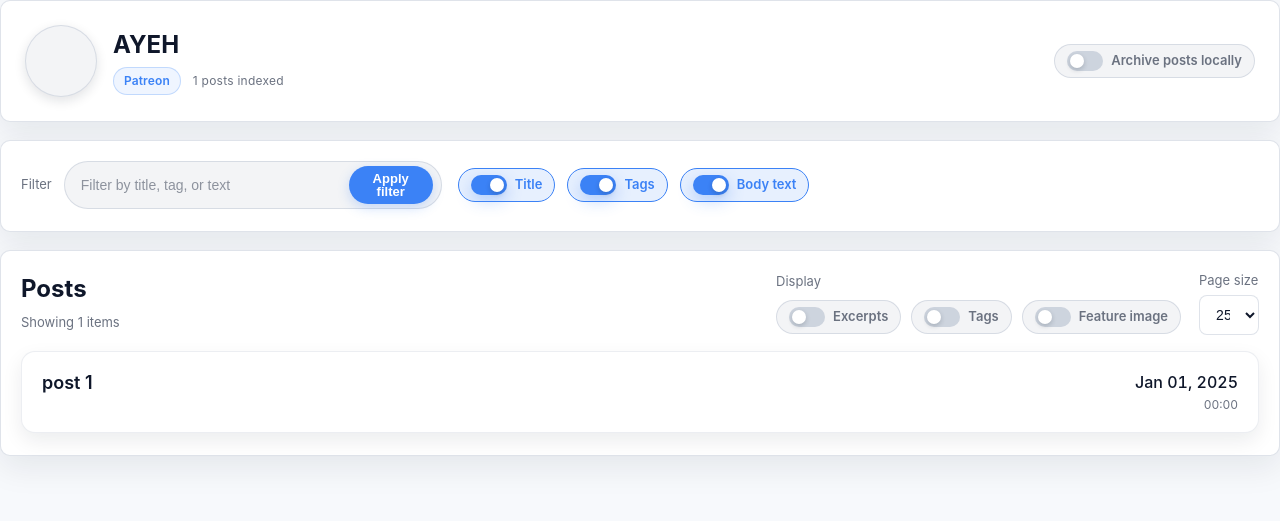
it: CreatorPage edge coverage › handles avatar image errors and updates filter/display controls from input events
expect the text "post 1" is shown: met, box top-left (42, 372), bottom-right (93, 392)
Step 1. Type "alpha query" into the field with placeholder "Filter by title, tag, or text" → (205, 185), box top-left (69, 169), bottom-right (341, 201)
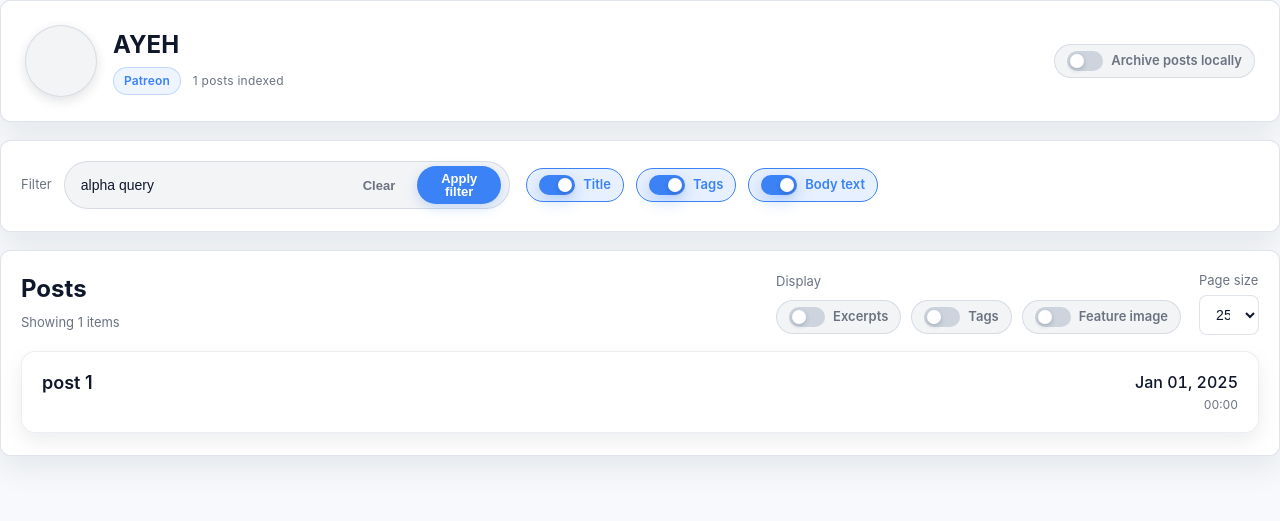
Step 2. Click the checkbox labelled "Tags" next to "Title" → (686, 185), box top-left (636, 168), bottom-right (736, 202)
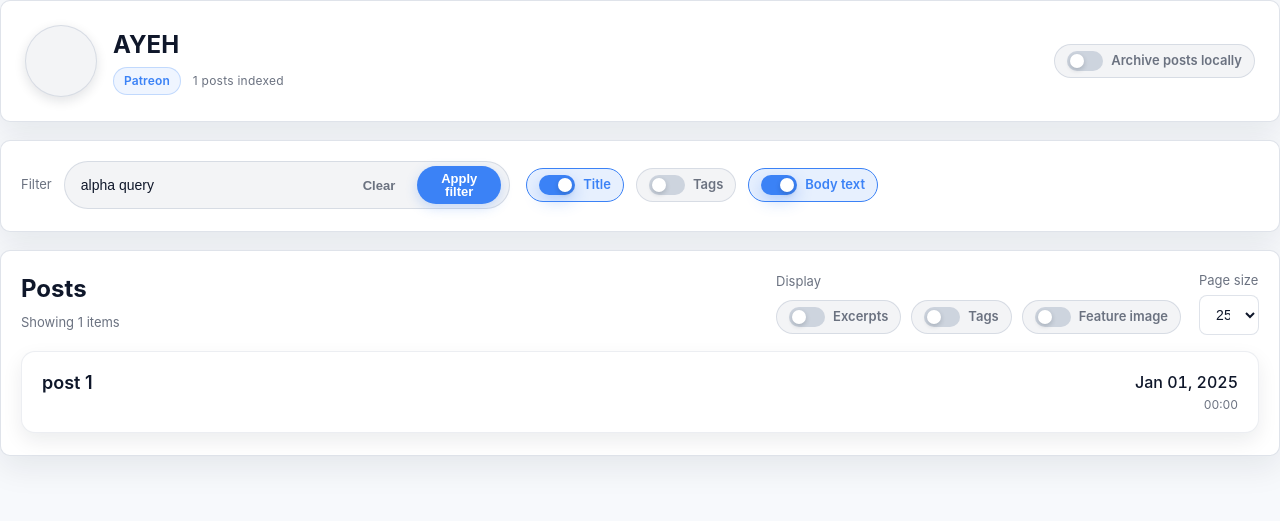
expect the checkbox labelled "Tags" next to "Title" is not checked: met, box top-left (636, 168), bottom-right (736, 202)
Step 3. Click the checkbox labelled "Tags" next to "Excerpts" → (962, 316), box top-left (911, 300), bottom-right (1012, 334)
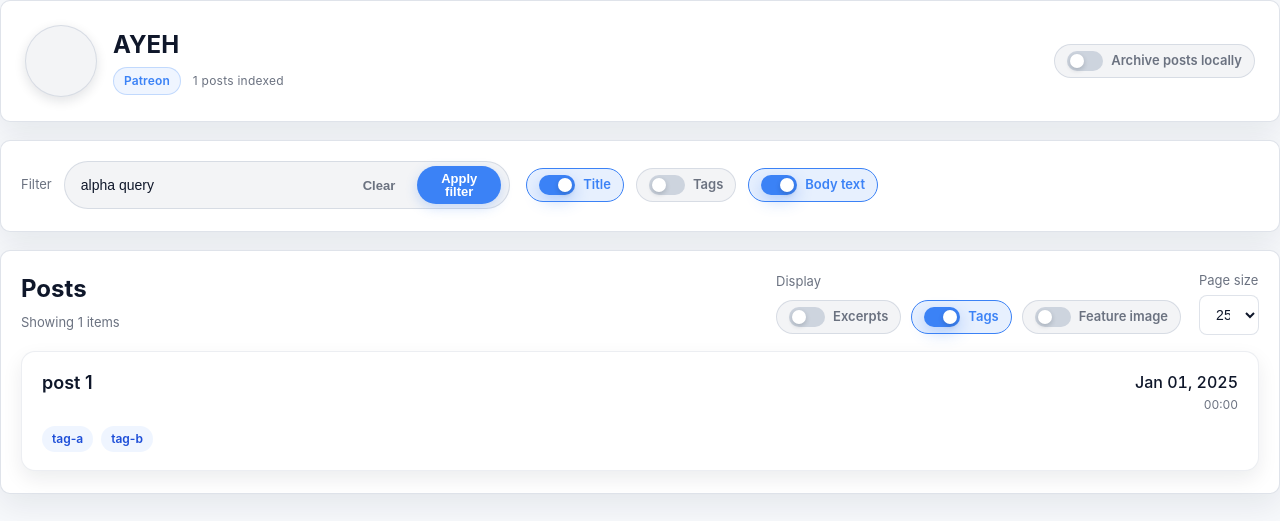
expect the text "tag-a" is shown: met, box top-left (42, 426), bottom-right (93, 452)
expect the text "tag-b" is shown: met, box top-left (101, 426), bottom-right (153, 452)
